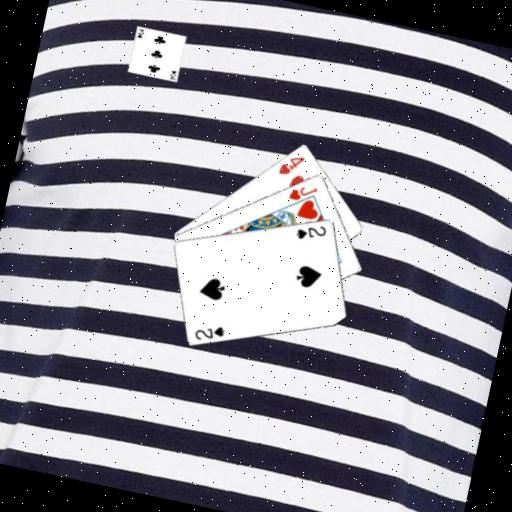2S: (292, 217, 329, 245), (191, 318, 227, 346)
4H: (275, 148, 307, 180)
JH: (285, 179, 319, 205)
